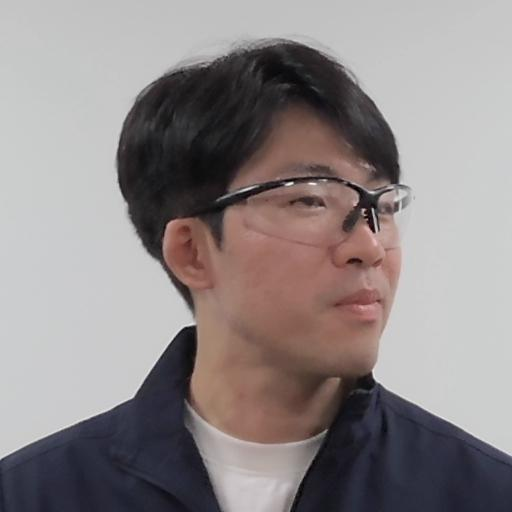glasses: (116, 36, 413, 388)
